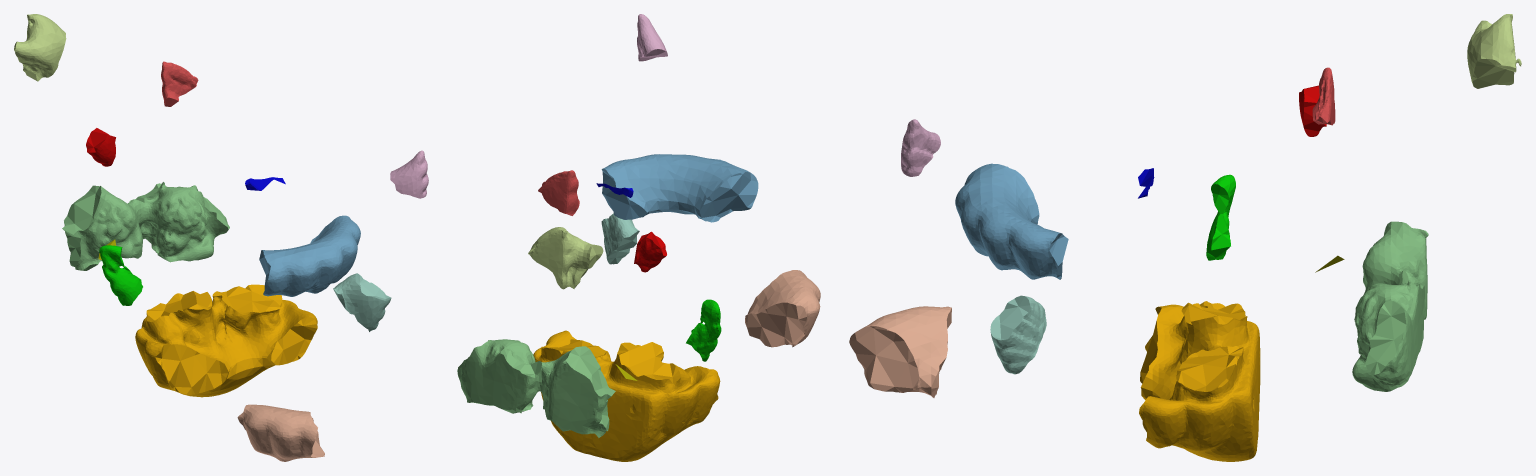
Rendered from fractured_34_12pcs_transformed.glb.
The picture shows the model from 3 angles, left to right: view 1: azimuth 30°, elevation 25°; view 2: azimuth 150°, elevation 25°; view 3: azimuth 270°, elevation 25°; orthographic projection. The views are drawn at different scales.
Visible parts, largest first — view 1: piece_0.obj, piece_3.obj, piece_2.obj, piece_7.obj, piece_5.obj, piece_4.obj, piece_8.obj, piece_6.obj, piece_1.obj, piece_9.obj; view 2: piece_0.obj, piece_3.obj, piece_2.obj, piece_7.obj, piece_5.obj, piece_4.obj, piece_1.obj, piece_8.obj, piece_6.obj, piece_9.obj; view 3: piece_0.obj, piece_3.obj, piece_2.obj, piece_7.obj, piece_4.obj, piece_5.obj, piece_8.obj, piece_6.obj, piece_1.obj, piece_9.obj.
Boxes of the visible parts, <box> form: piece_0.obj: <box>135,284,317,397</box>; piece_3.obj: <box>62,182,229,270</box>; piece_2.obj: <box>259,215,360,296</box>; piece_7.obj: <box>237,404,324,461</box>; piece_5.obj: <box>14,14,66,81</box>; piece_4.obj: <box>333,273,391,331</box>; piece_8.obj: <box>99,245,142,305</box>; piece_6.obj: <box>390,150,428,198</box>; piece_1.obj: <box>161,61,198,106</box>; piece_9.obj: <box>86,128,115,166</box>; piece_0.obj: <box>533,330,720,461</box>; piece_3.obj: <box>457,339,615,437</box>; piece_2.obj: <box>601,154,758,222</box>; piece_7.obj: <box>745,270,820,347</box>; piece_5.obj: <box>528,227,603,289</box>; piece_4.obj: <box>601,213,639,264</box>; piece_1.obj: <box>538,170,579,215</box>; piece_8.obj: <box>686,299,721,361</box>; piece_6.obj: <box>637,14,667,61</box>; piece_9.obj: <box>634,231,666,272</box>; piece_0.obj: <box>1139,301,1260,461</box>; piece_3.obj: <box>1352,221,1428,391</box>; piece_2.obj: <box>955,163,1068,279</box>; piece_7.obj: <box>849,306,951,397</box>; piece_4.obj: <box>990,295,1046,374</box>; piece_5.obj: <box>1467,14,1521,88</box>; piece_8.obj: <box>1206,174,1235,260</box>; piece_6.obj: <box>901,119,940,176</box>; piece_1.obj: <box>1312,67,1335,125</box>; piece_9.obj: <box>1299,85,1326,136</box>.
Size of the model in its own units: 0.9989 by 1.43 by 2.24.
